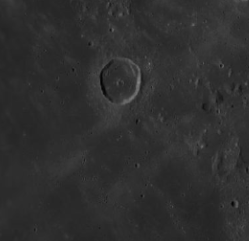crater: (76, 50, 161, 124)
